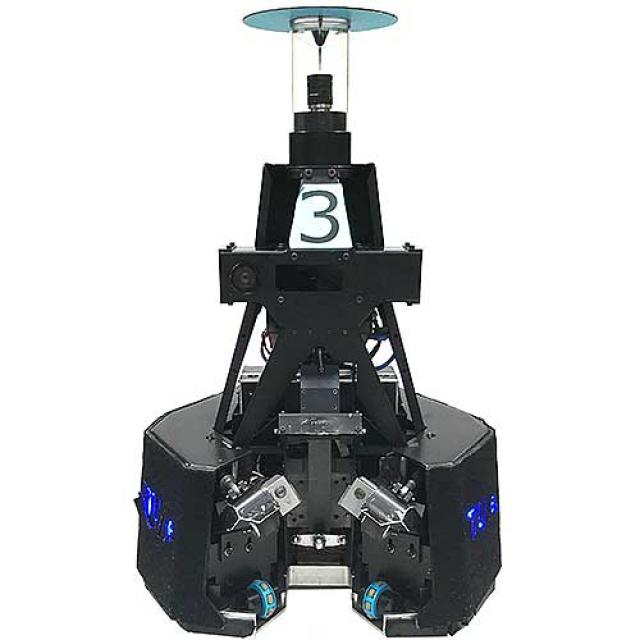robot: (105, 0, 519, 640)
